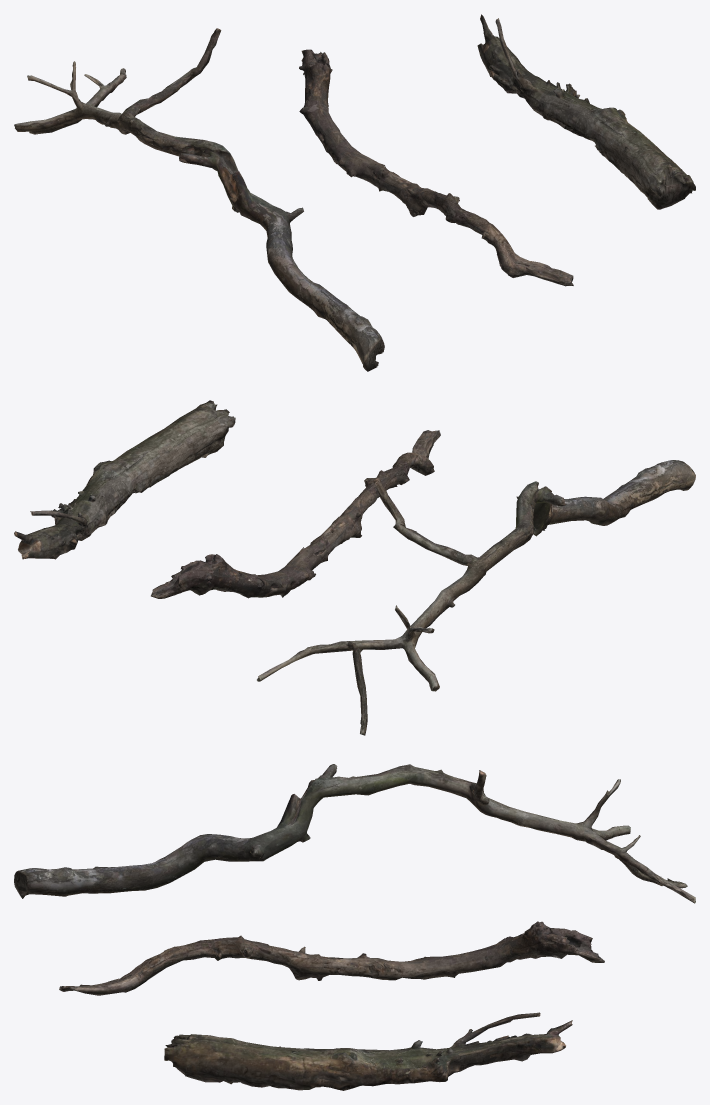
File: dry_branches_medium_01.glb
3 renders of one model, top to bottom at view 1: azimuth 30°, elevation 25°; view 2: azimuth 150°, elevation 25°; view 3: azimuth 270°, elevation 25°, orthographic. The views are drawn at different scales.
Visible parts, largest first — view 1: dry_branches_medium_01_a, dry_branches_medium_01_c, dry_branches_medium_01_b; view 2: dry_branches_medium_01_a, dry_branches_medium_01_c, dry_branches_medium_01_b; view 3: dry_branches_medium_01_a, dry_branches_medium_01_c, dry_branches_medium_01_b.
Boxes of the visible parts, x1,y1,x2,y2 form: dry_branches_medium_01_a: [14, 28, 384, 371]; dry_branches_medium_01_c: [477, 14, 695, 209]; dry_branches_medium_01_b: [299, 49, 573, 286]; dry_branches_medium_01_a: [257, 460, 695, 735]; dry_branches_medium_01_c: [14, 400, 235, 559]; dry_branches_medium_01_b: [151, 430, 440, 598]; dry_branches_medium_01_a: [14, 764, 695, 903]; dry_branches_medium_01_c: [164, 1012, 572, 1090]; dry_branches_medium_01_b: [59, 921, 604, 995].
Bounding box in the file's own units: 1.06 × 0.3403 × 1.3.
1 material, 1 textured.
